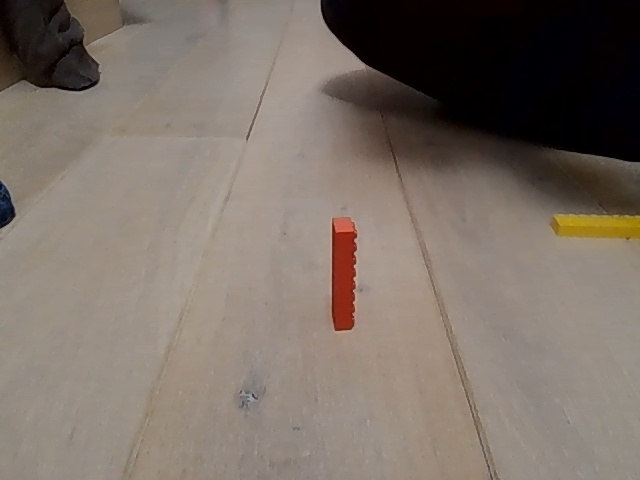lego: (329, 217, 365, 329)
